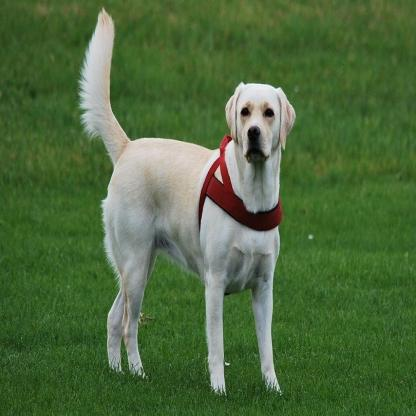dog: (77, 8, 298, 396)
